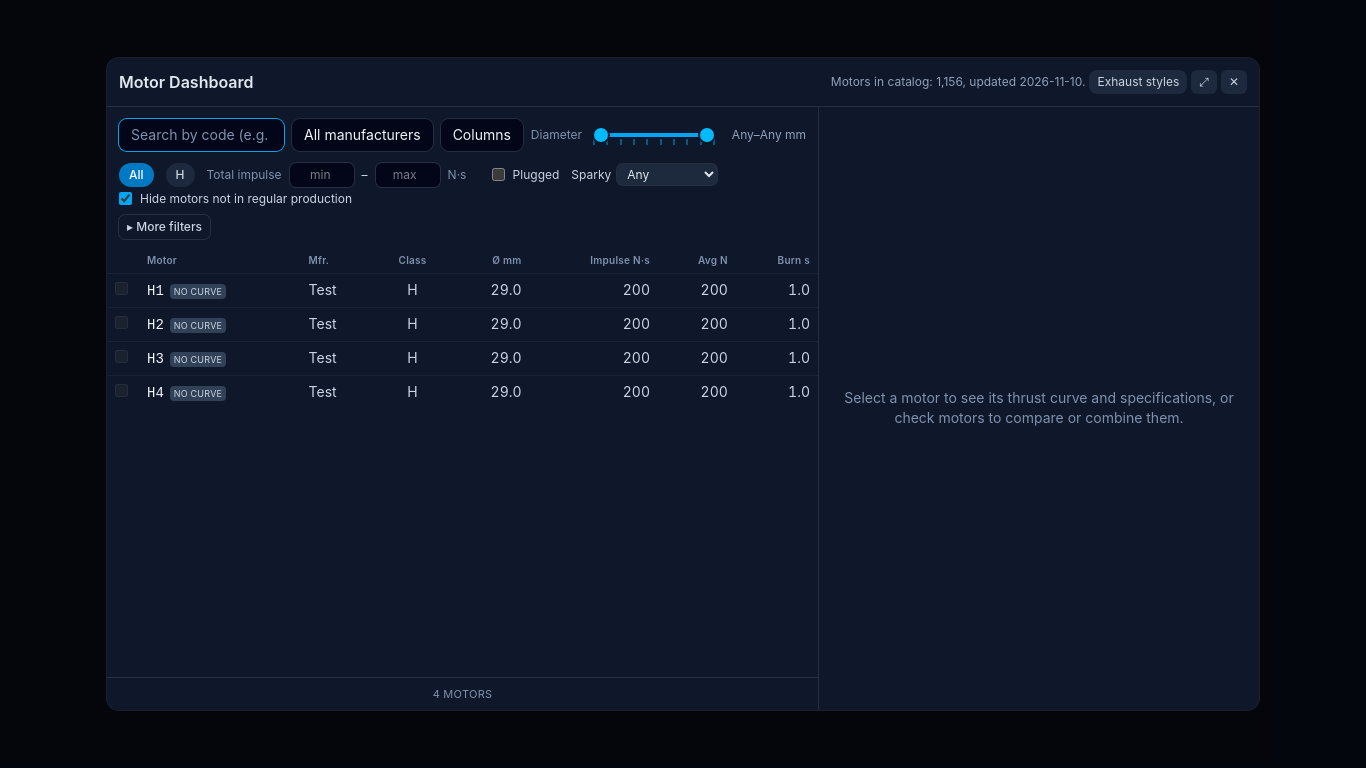
it: the exhaust styles pane › opens from a motor in the dashboard, by the style its detail names
Click the button "H3" at x=155, y=359, box [147, 349, 164, 369]
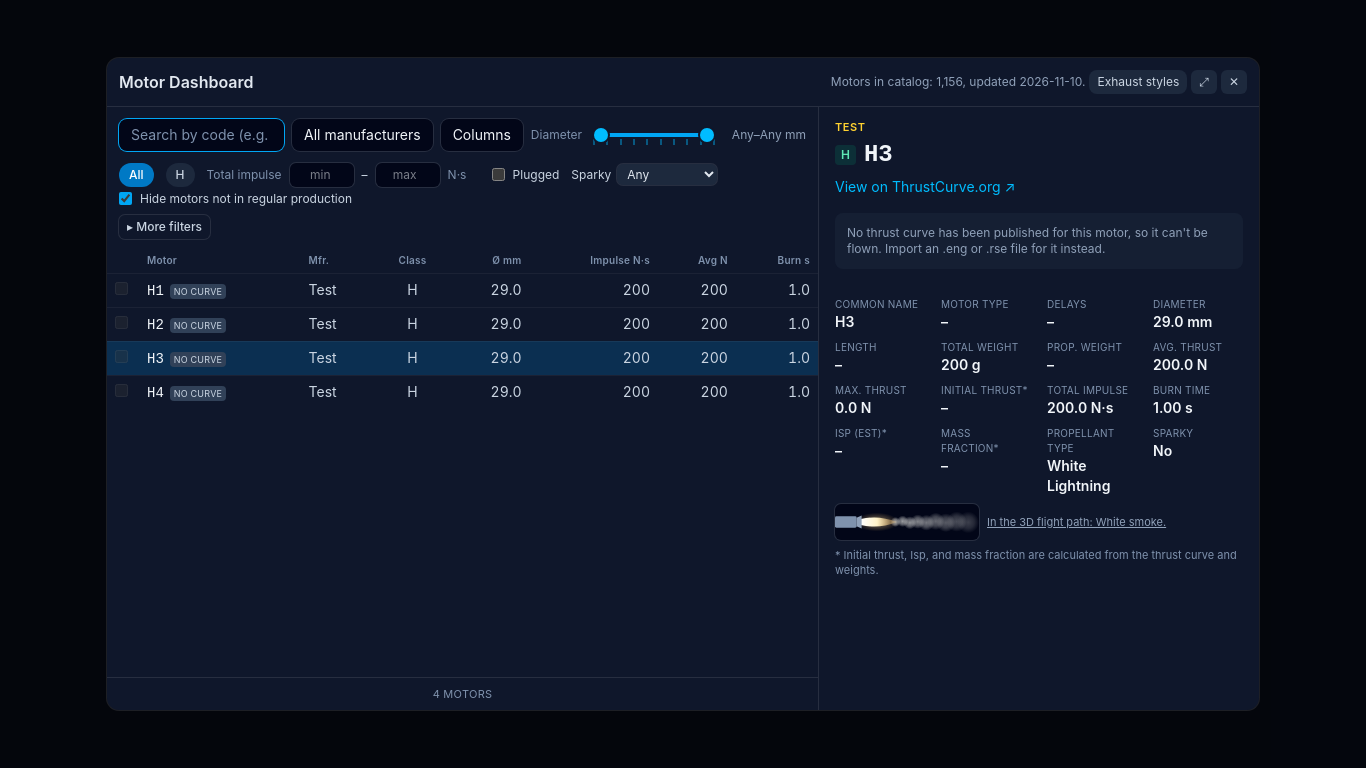
Click the button "In the 3D flight path: White smoke." at x=1077, y=522, box [987, 514, 1166, 530]
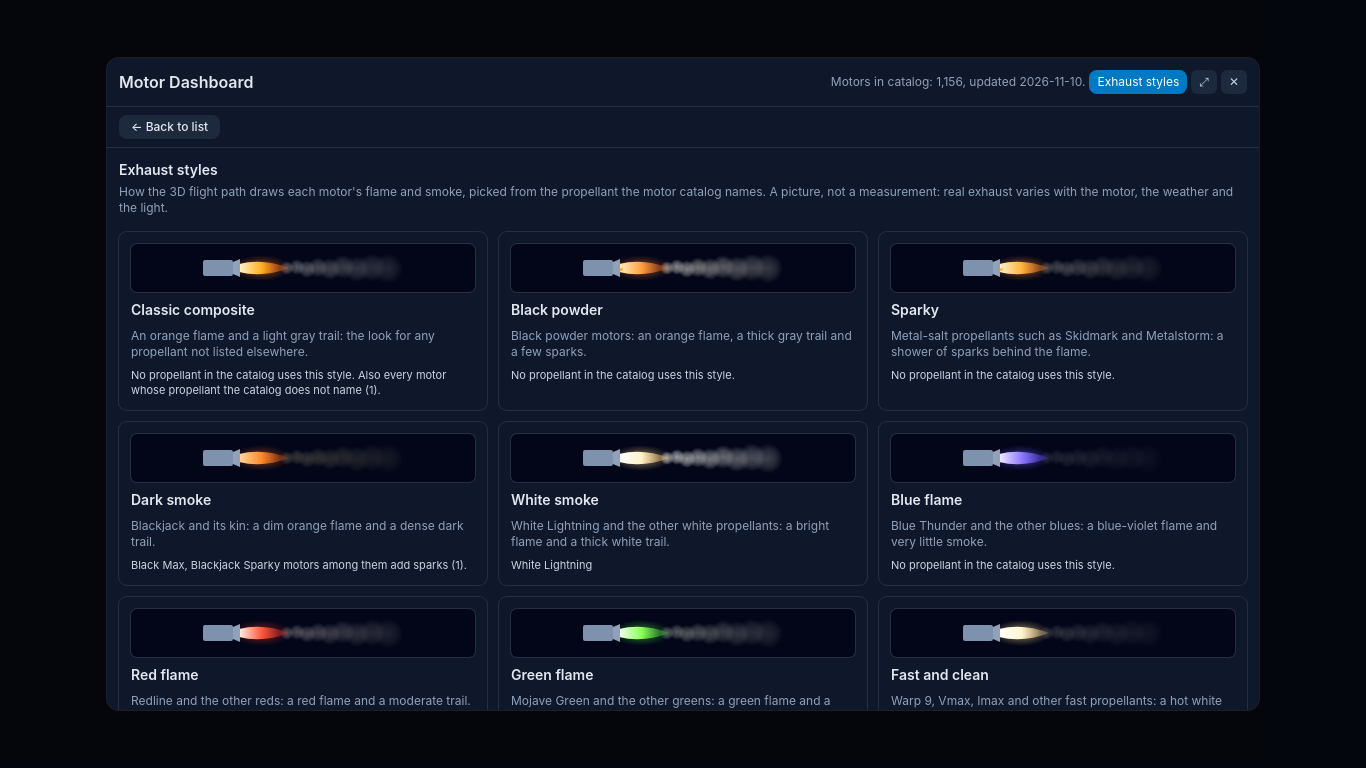
Check: the list item "White smoke" shows "White Lightning", box [511, 558, 592, 572]
